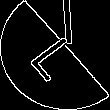L_NE: (23, 27, 87, 83)
